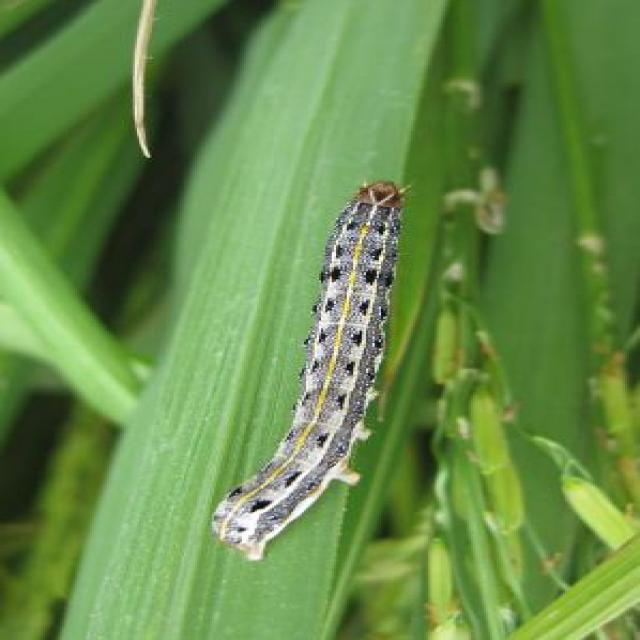armyworm: (170, 173, 429, 583)
